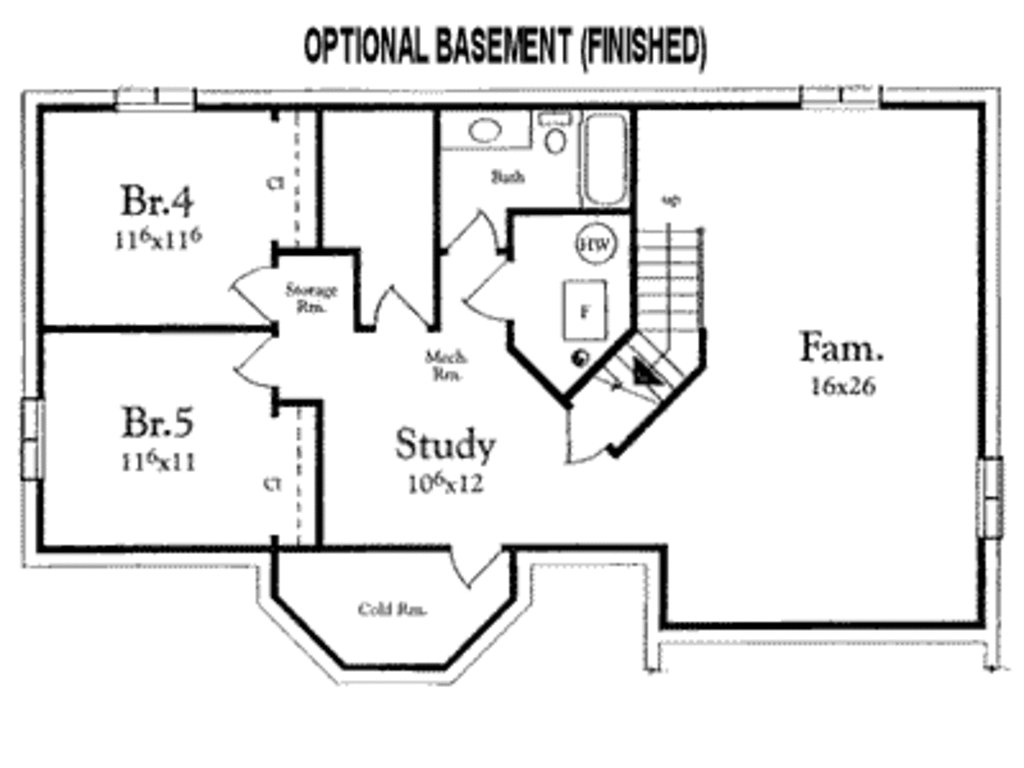door: (363, 268, 438, 334), (224, 328, 290, 390), (458, 255, 515, 324), (220, 253, 277, 319), (446, 546, 515, 593), (434, 203, 495, 252)
large_sink: (534, 99, 574, 158)
small_sink: (437, 104, 529, 149)
stairs: (564, 217, 712, 450)
tub: (575, 102, 639, 210)
window: (1, 390, 50, 486), (110, 73, 197, 119), (971, 453, 1015, 542), (797, 80, 883, 113)
